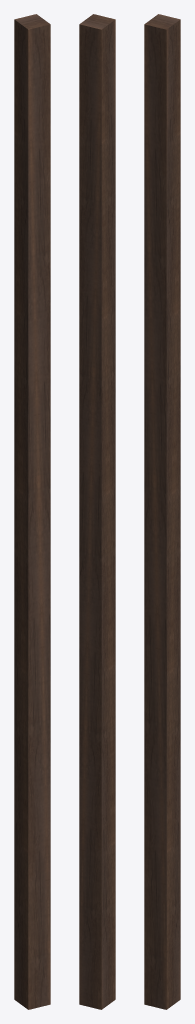
File: yane_frame_4t_a12f_pile.fbx
3 renders of one model, left to right at view 1: azimuth 30°, elevation 25°; view 2: azimuth 150°, elevation 25°; view 3: azimuth 330°, elevation 25°, orthographic.
Visible parts, largest first — view 1: yane_frame_4t_a12f_pile; view 2: yane_frame_4t_a12f_pile; view 3: yane_frame_4t_a12f_pile.
Part boxes in pixels (left/top/right/bottom): yane_frame_4t_a12f_pile: left=14, top=14, right=50, bottom=1009; yane_frame_4t_a12f_pile: left=79, top=14, right=115, bottom=1009; yane_frame_4t_a12f_pile: left=144, top=14, right=180, bottom=1009.
Bounding box in the file's own units: 18.42 × 778 × 20.28.
